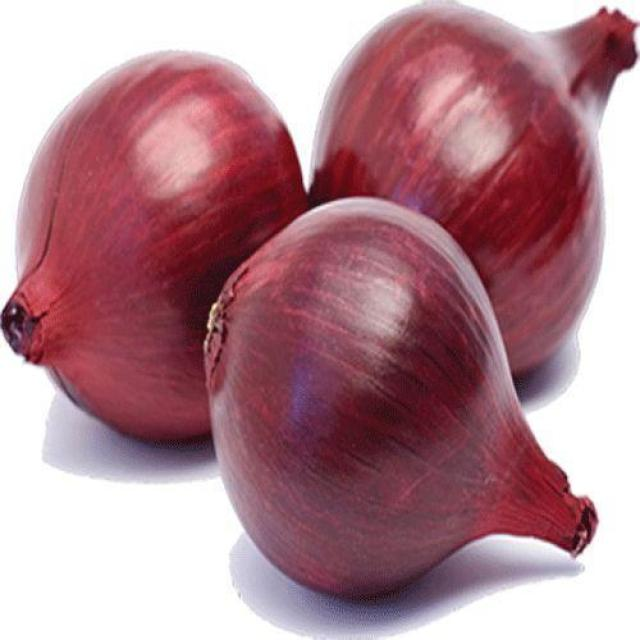Onion: (202, 195, 599, 599), (308, 0, 639, 376), (2, 51, 308, 447)
